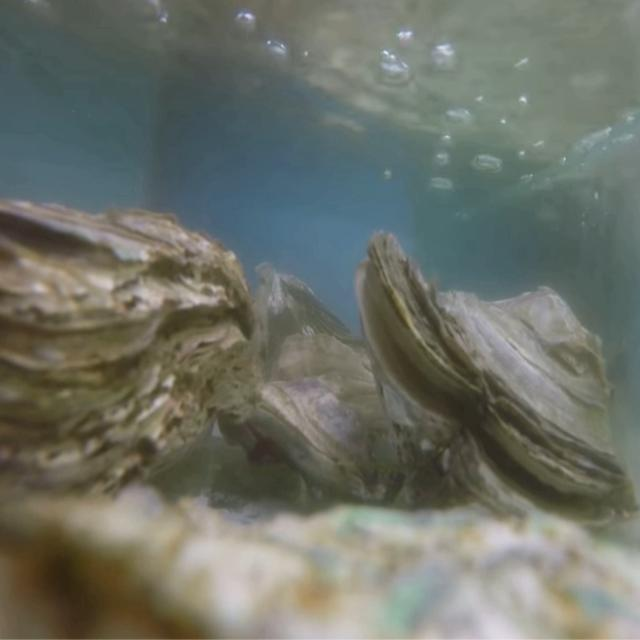Oyster-Closed: (0, 198, 258, 529), (260, 331, 415, 507)
Oyster-Indeterminate: (0, 486, 640, 640)
Oyster-Open: (354, 228, 640, 538)
